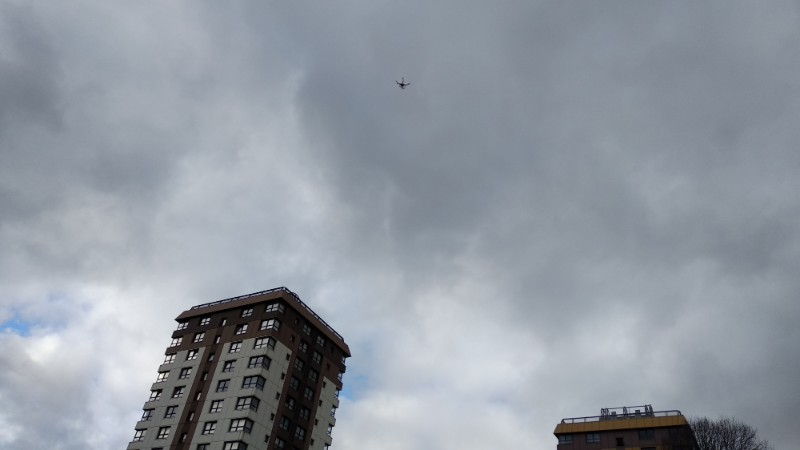drone: (396, 78, 410, 90)
